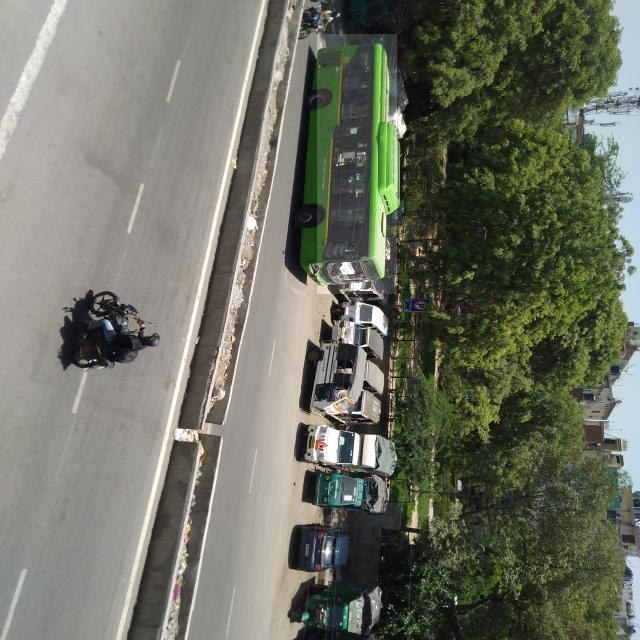Bike: (65, 288, 175, 378)
Bus: (318, 34, 398, 294)
